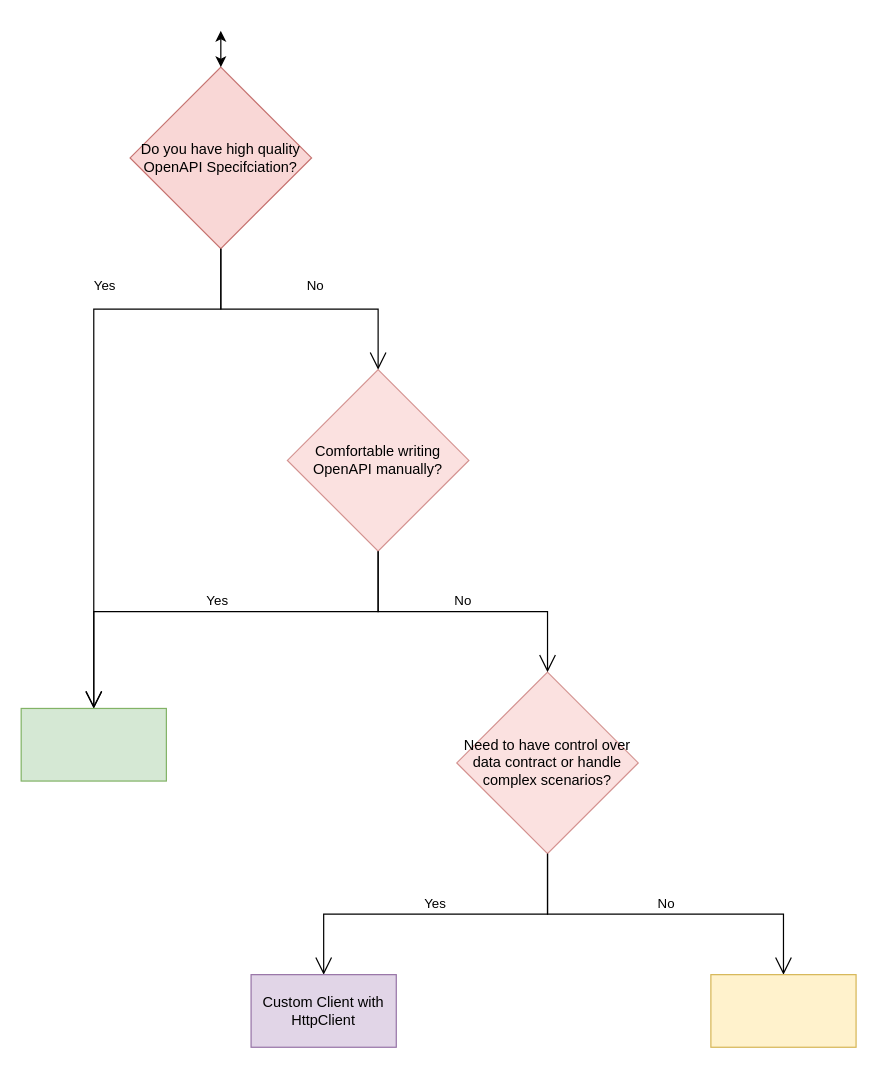
Some shapes in this 877 by 1068 pixel diagram are drawn without their labels. Here are the shapes that lost their labels. From the top down, the centre of each, then its label:
[93,744]: Automated Generation with NSwag
[783,1010]: Declarative Clients with Refit
